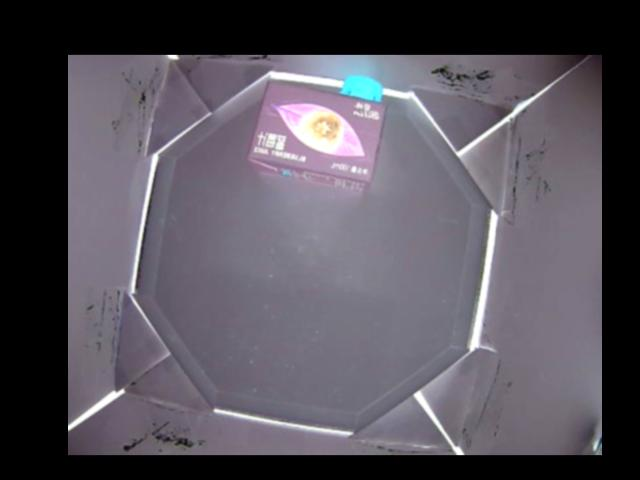Bottle: (245, 65, 389, 193)
